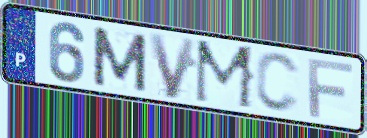6: (46, 19, 86, 85)
C: (253, 51, 302, 116)
F: (305, 56, 355, 120)
M: (192, 37, 258, 113), (90, 24, 149, 95)
V: (146, 31, 199, 102)
